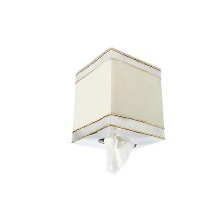plastic_box: (66, 45, 171, 157)
tissue: (97, 132, 138, 179)
